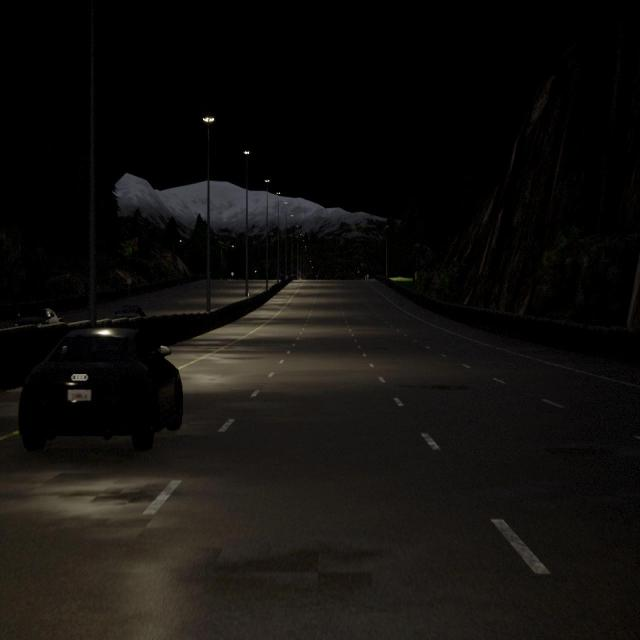Traffic_Signs: (127, 278, 132, 284)
Vehicle: (19, 328, 182, 450), (15, 308, 59, 326), (115, 304, 145, 318)
